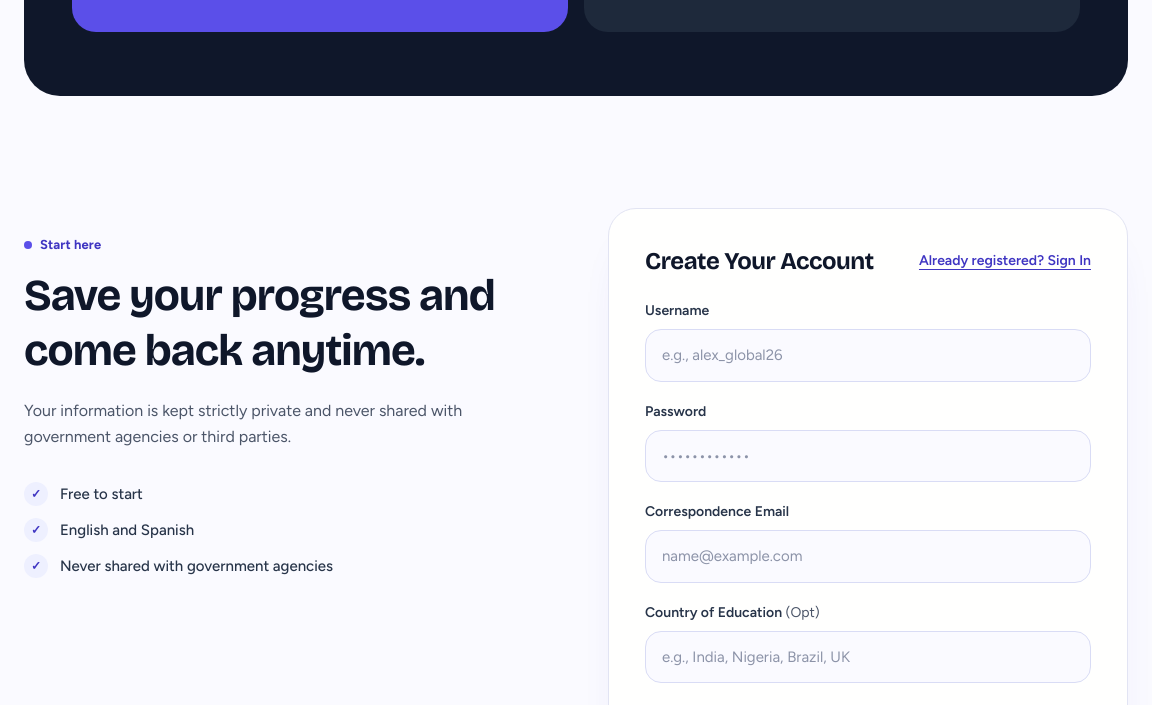
Test: App sign-up — offline path saves country + goal to ge_profile › stores country in ge_profile after an offline signup
The width and height of the screenshot is (1152, 705).
(page scrolled)
In the field with test id "input-username": (868, 355) [645,329,1091,382], type "bob"
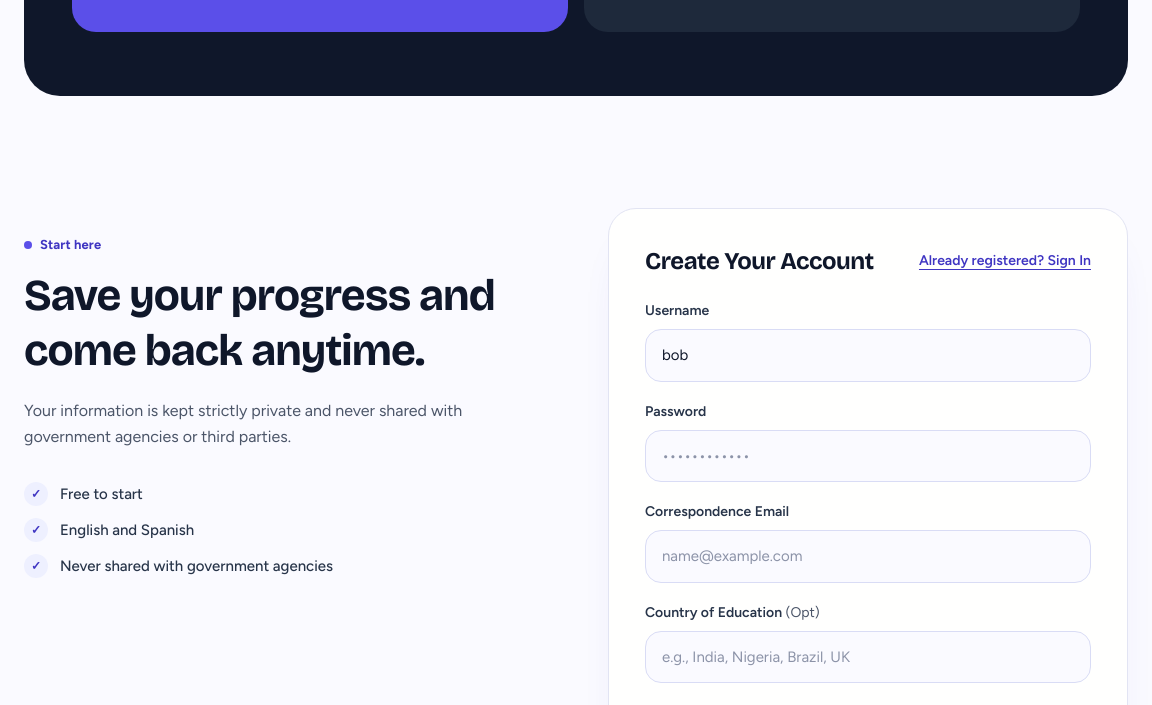
In the password field with test id "input-password": (868, 456) [645,430,1091,482], type "hunter2"
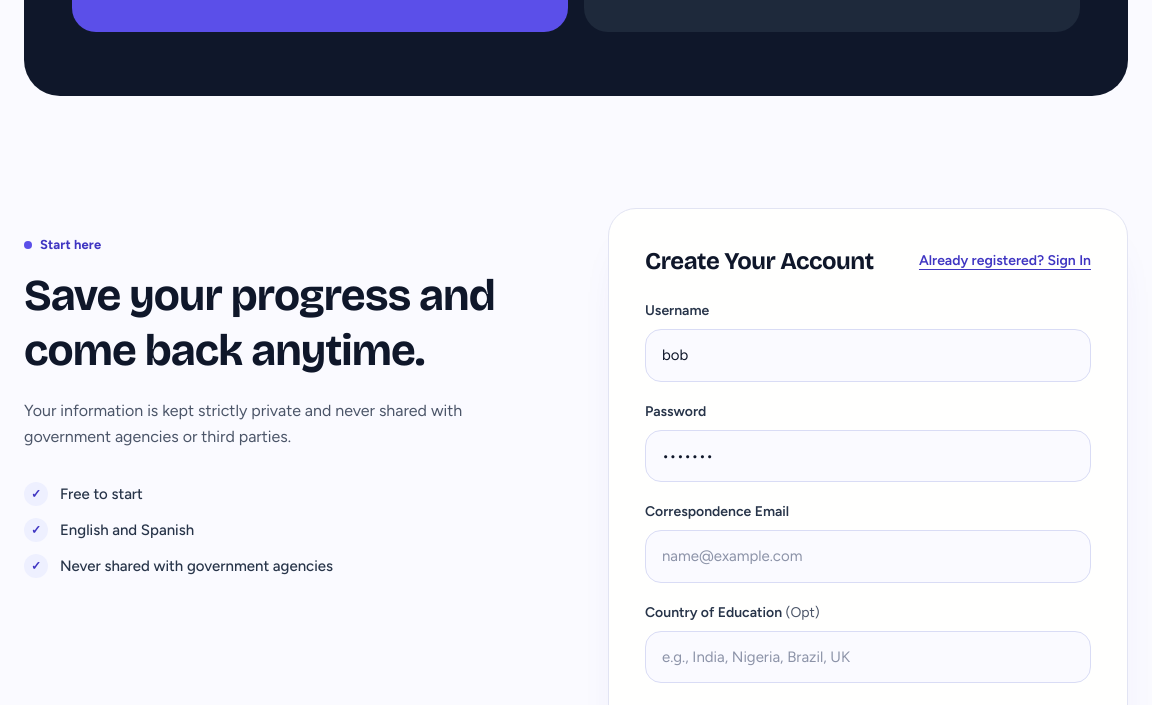
In the field with test id "input-email": (868, 556) [645,530,1091,583], type "bob@example.com"
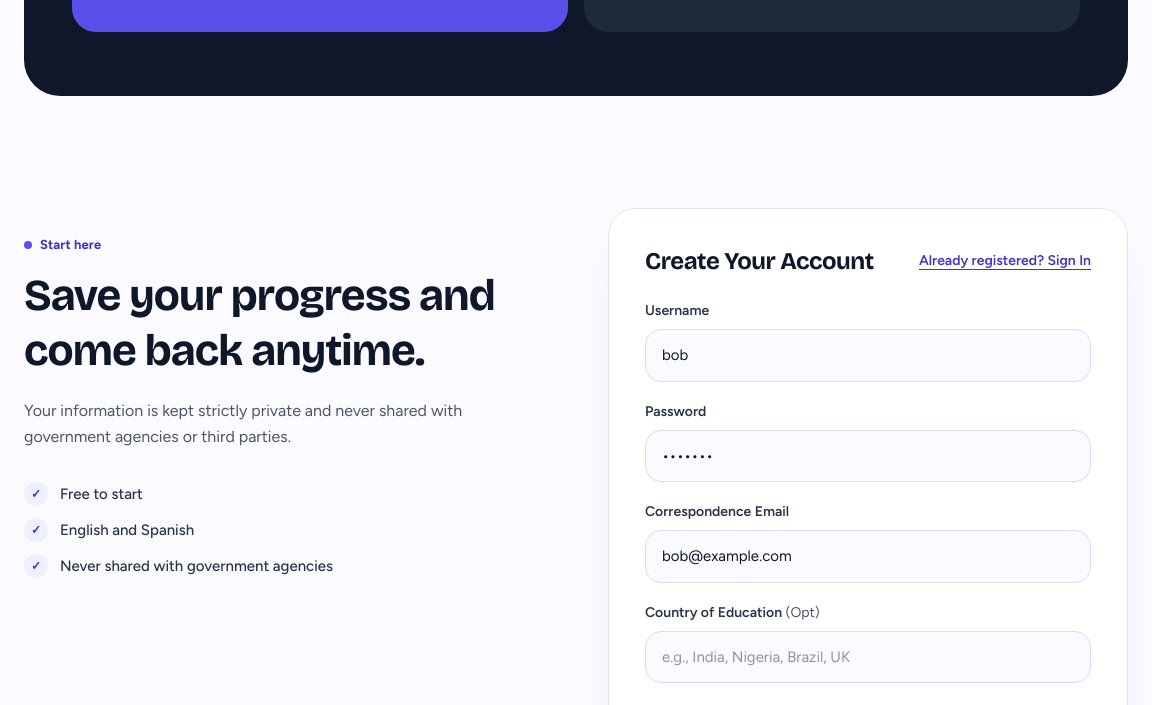
In the field with test id "input-signup-country": (868, 657) [645,631,1091,683], type "India"
(page scrolled)
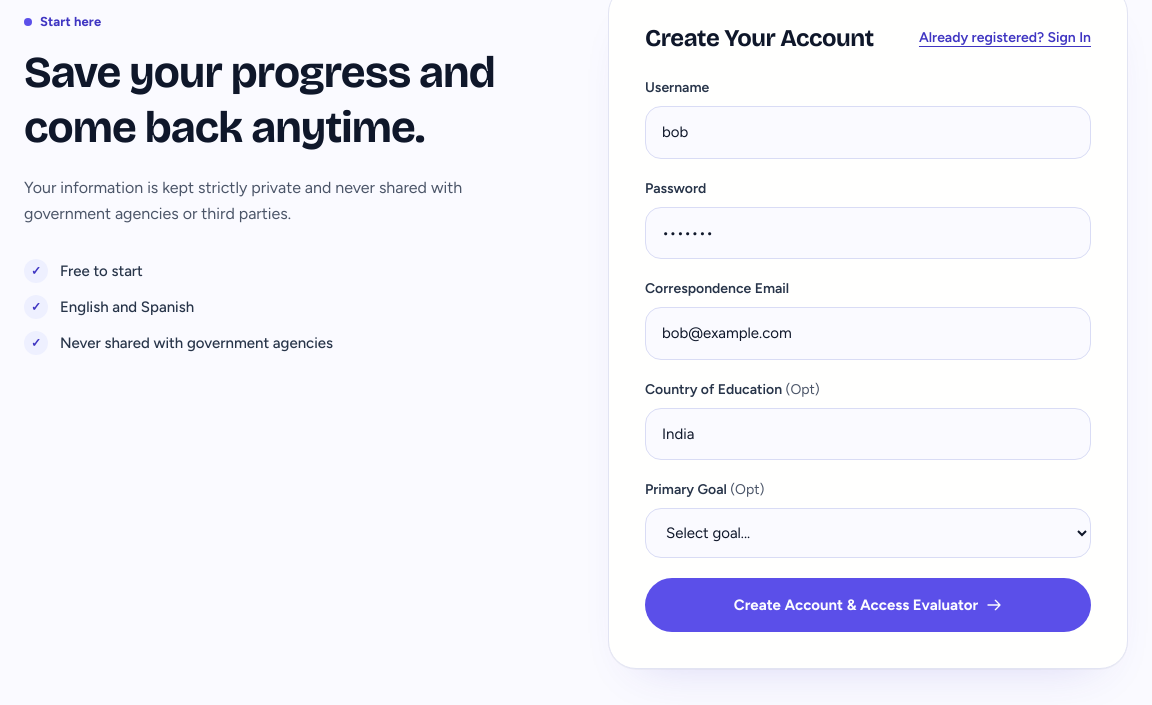
Submit the form with test id "form-auth", box [645,78,1091,632]
(page scrolled)
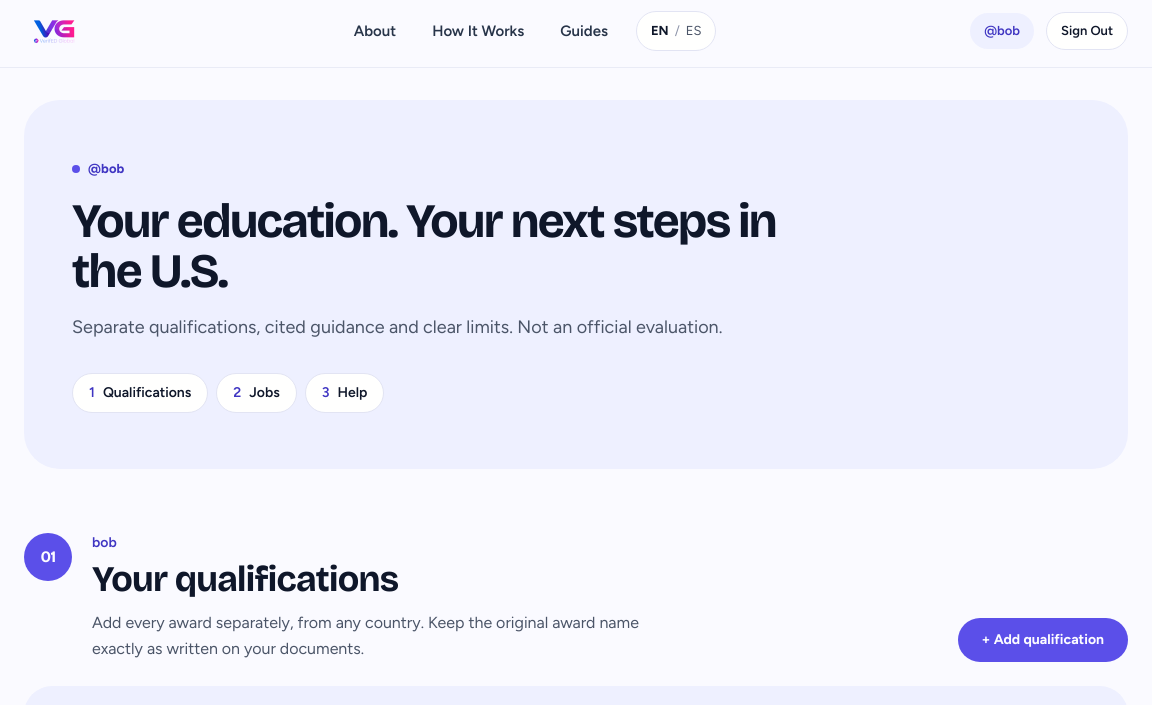
Expected: the element with test id "nav-user-badge" is shown, [970,12,1128,50]
